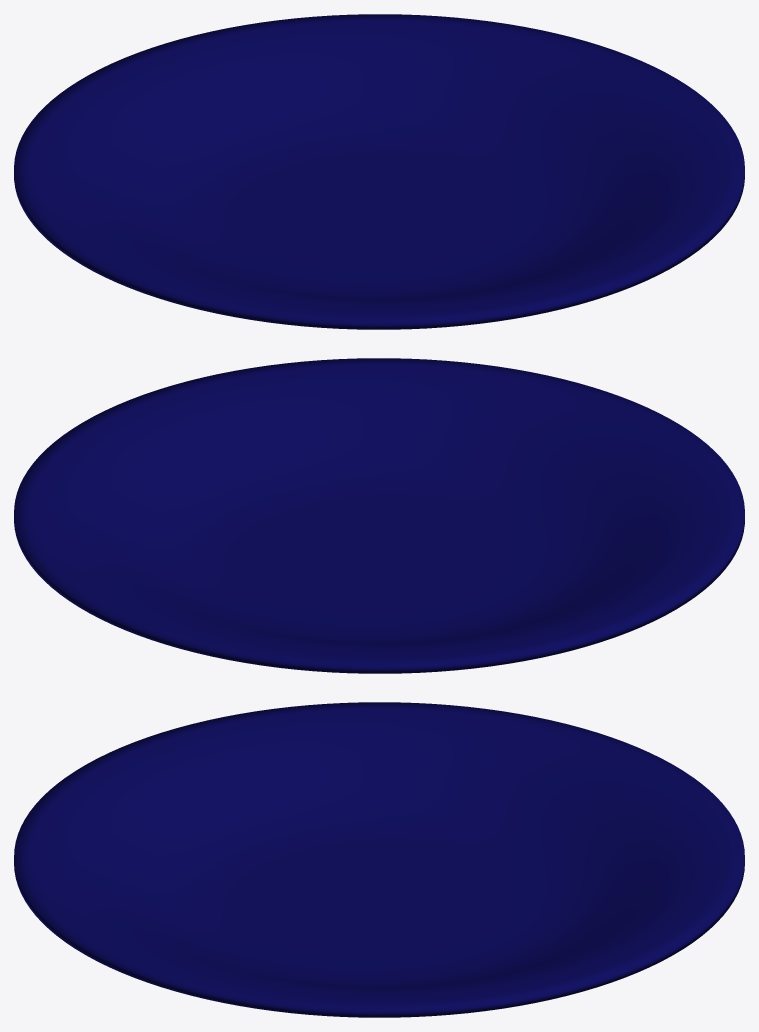
File: plate.dae
3 views of the same model, one above another, from view 1: azimuth 30°, elevation 25°; view 2: azimuth 150°, elevation 25°; view 3: azimuth 270°, elevation 25° (orthographic).
Visible parts, largest first — view 1: Circle_Circle.006; view 2: Circle_Circle.006; view 3: Circle_Circle.006.
Part boxes in pixels (<box>): Circle_Circle.006: <box>14,14,744,329</box>; Circle_Circle.006: <box>14,358,744,673</box>; Circle_Circle.006: <box>14,702,744,1017</box>.
Bounding box in the file's own units: 0.3975 × 0.3975 × 0.0317.
